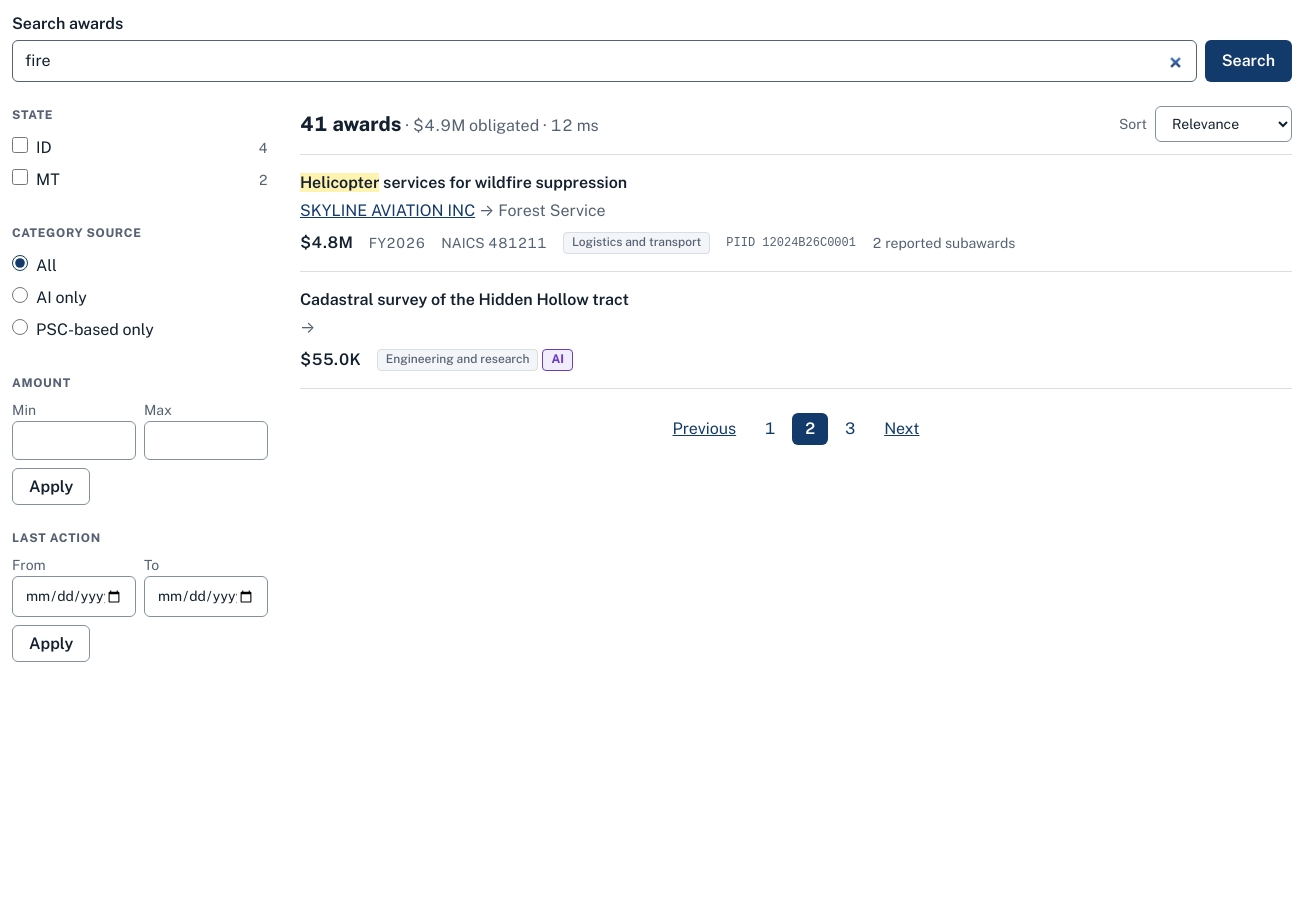
Test: SearchPage › narrows the search when a facet value is checked, and returns to page 1
Click the checkbox labelled "MT 2" at (20, 177), box [12, 169, 28, 185]
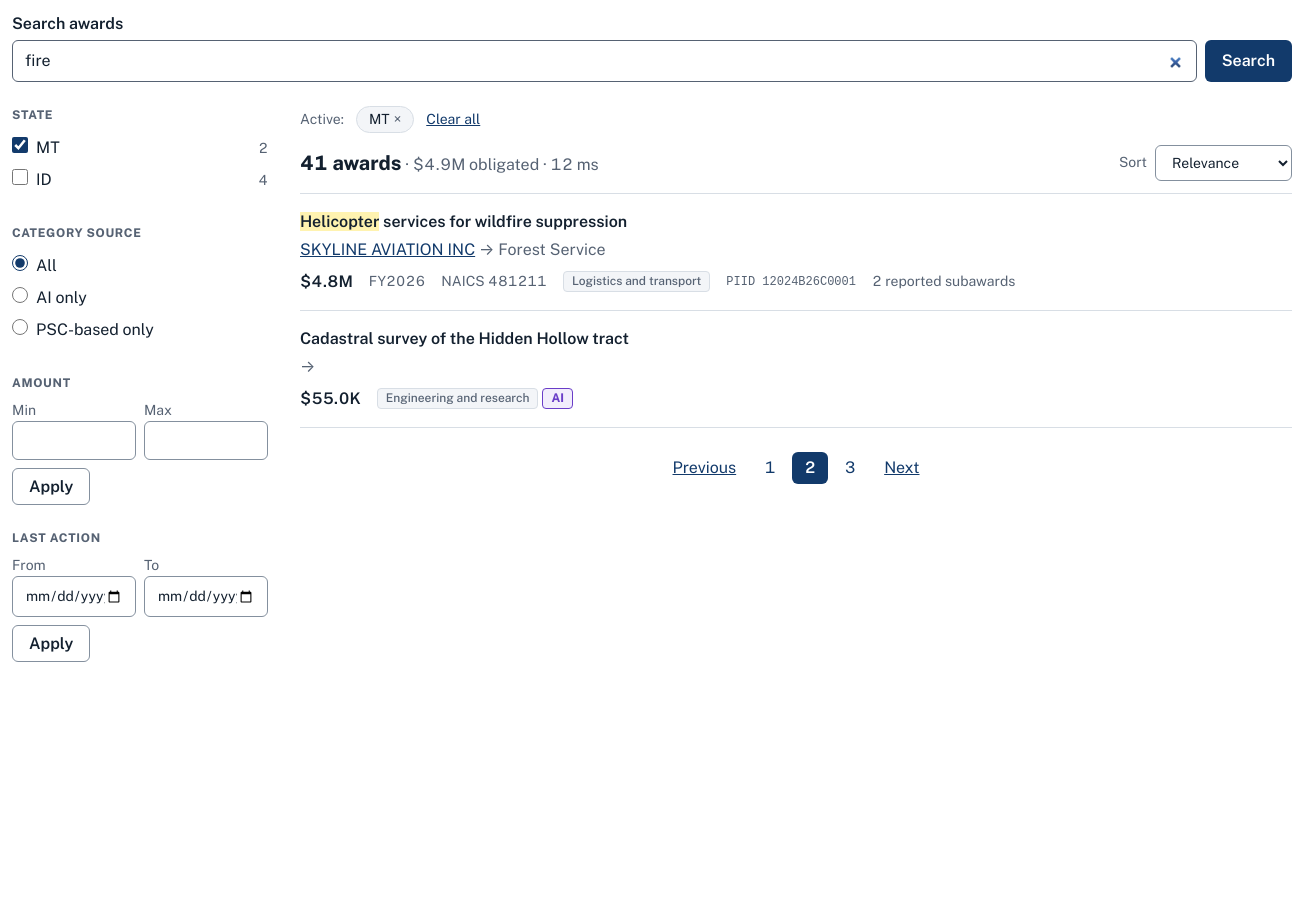
Now the link with aria-label "Remove filter: MT" is shown, box [356, 106, 414, 133]
